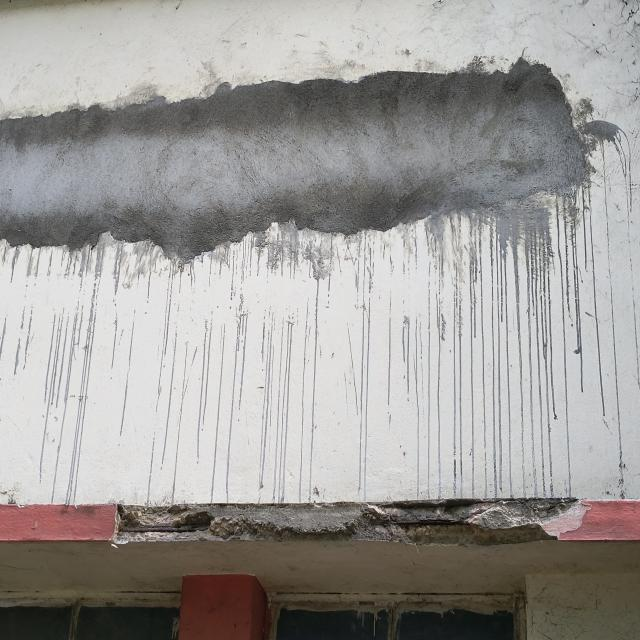Incomplete Plaster Work: (0, 62, 633, 264)
Spalling: (116, 498, 590, 544)
